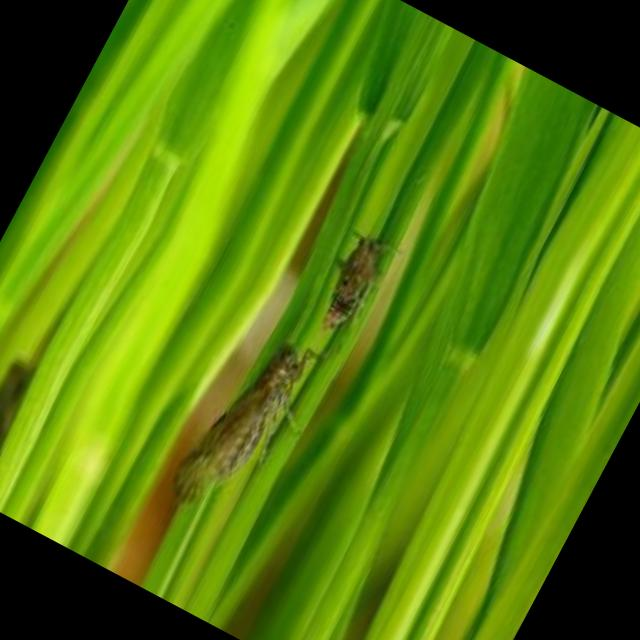brown-planthopper: (161, 321, 322, 530), (308, 226, 394, 340)
